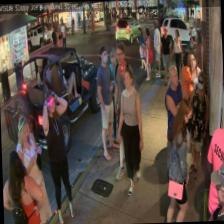person: (40, 88, 74, 224), (14, 114, 52, 224), (162, 97, 194, 222), (110, 42, 138, 182), (114, 68, 144, 196), (1, 148, 44, 224), (183, 69, 211, 178), (162, 64, 186, 181), (95, 46, 118, 160), (104, 46, 122, 144), (209, 161, 224, 220)
